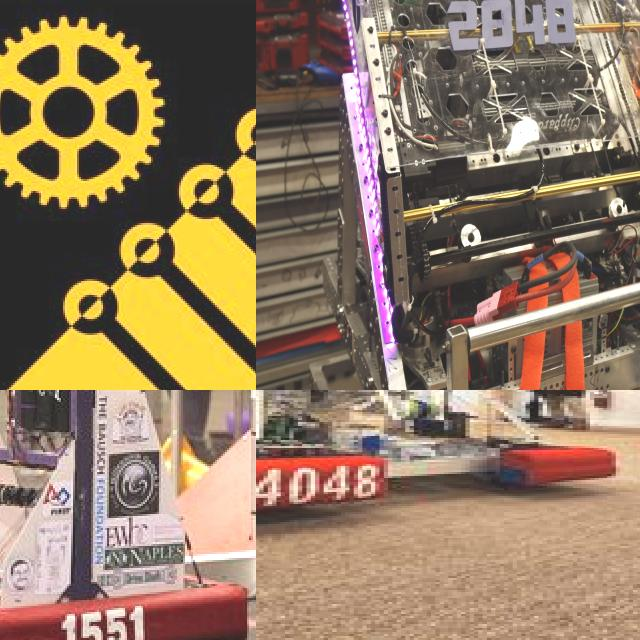FRC-Robots: (310, 0, 640, 390), (256, 390, 640, 566), (0, 390, 256, 640)
